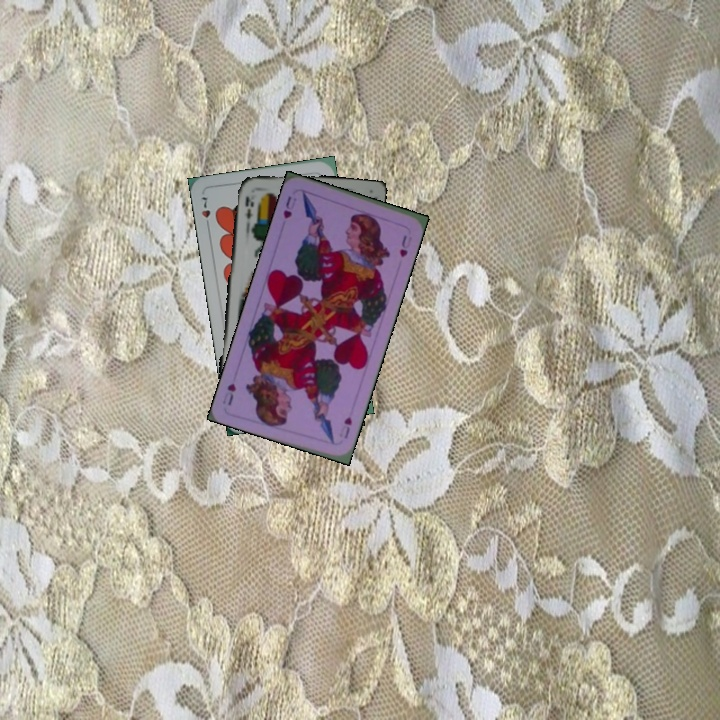EK: (240, 192, 256, 221)
H7: (197, 193, 213, 231)
HU: (279, 192, 299, 222), (338, 413, 355, 441)
